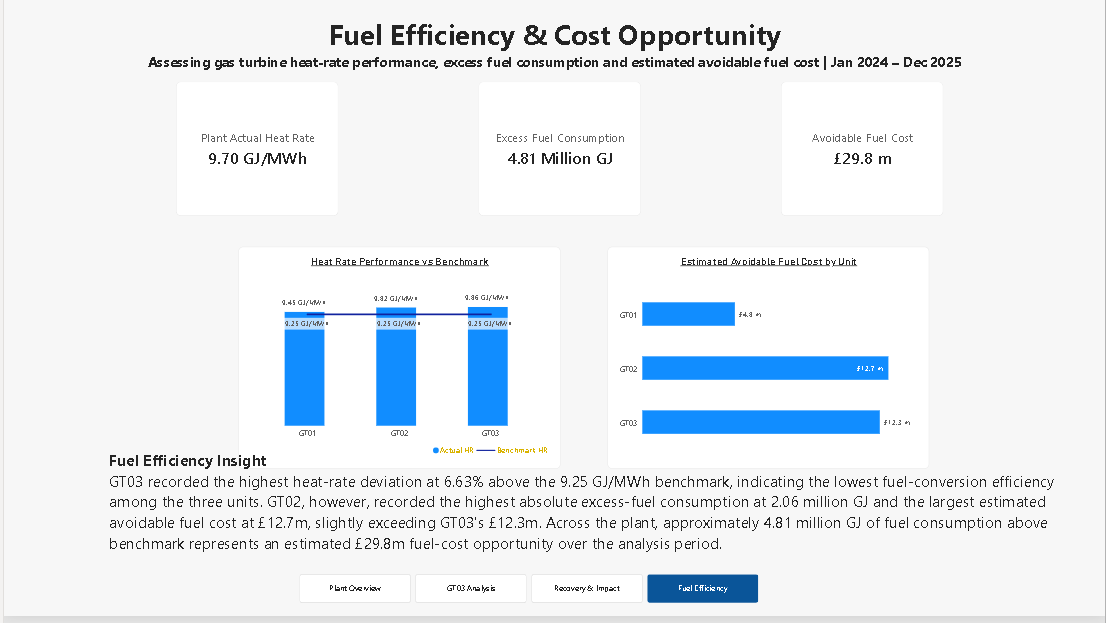

The page's visual inventory and layout, read from the dashboard file:
{"tool":"powerbi","page":{"name":"Fuel Efficiency","canvas":[1920,1080],"ordinal":3},"visuals":[{"type":"textbox","box":[150,31.5,1620.9,121],"z":1000},{"type":"lineStackedColumnComboChart","title":"Heat Rate Performance vs Benchmark","fields":{"Category":["DimUnitTable.Unit"],"Y":["FactFuelTable.Actual Heat Rate GJ/MWh"],"Y2":["FactFuelTable.Benchmark Heat Rate GJ/MWh"]},"box":[408.8,434.7,561.3,387.1],"z":2000},{"type":"cardVisual","fields":{"Data":["FactFuelTable.Actual Heat Rate GJ/MWh"]},"box":[300,148,283,234],"z":3000},{"type":"cardVisual","fields":{"Data":["FactFuelTable.Excess Fuel Million GJ"]},"box":[827.4,148,283,234],"z":4000},{"type":"cardVisual","fields":{"Data":["FactFuelTable.Avoidable Fuel Cost £m"]},"box":[1354.8,148,283,234],"z":5000},{"type":"clusteredBarChart","title":"Estimated Avoidable Fuel Cost by Unit","fields":{"Category":["DimUnitTable.Unit"],"Y":["FactFuelTable.Avoidable Fuel Cost £m"]},"box":[1052.4,434.7,561,387.1],"z":6000},{"type":"textbox","box":[183.9,788.7,1681.4,200.8],"z":6001},{"type":"pageNavigator","box":[515.3,1006.4,800,50],"z":6002}]}

Visuals, with their boxes in screenshot pixels (x1, y1, x2, y2), scaled from the page's 1920x1080 canvas onto the 1106x623 screenshot:
textbox: 86 18 1020 88
"Heat Rate Performance vs Benchmark" lineStackedColumnComboChart: 235 251 559 474
cardVisual - FactFuelTable.Actual Heat Rate GJ/MWh: 173 85 336 220
cardVisual - FactFuelTable.Excess Fuel Million GJ: 477 85 640 220
cardVisual - FactFuelTable.Avoidable Fuel Cost £m: 780 85 943 220
"Estimated Avoidable Fuel Cost by Unit" clusteredBarChart: 606 251 929 474
textbox: 106 455 1074 571
pageNavigator: 297 581 758 609
